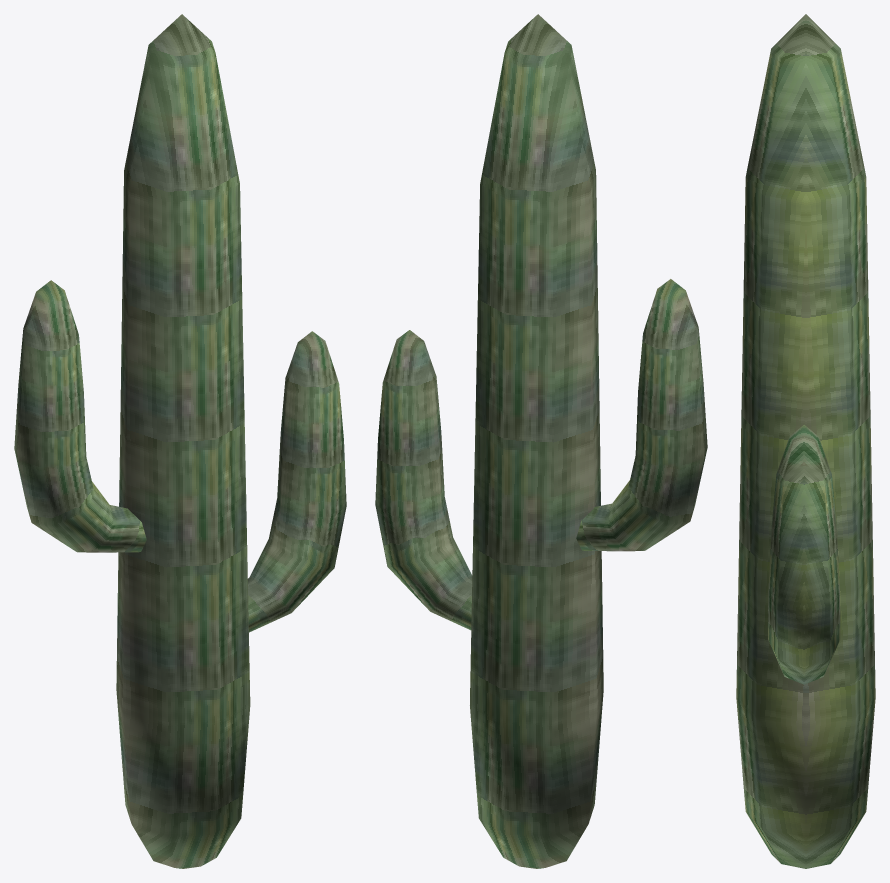
The model's file is cactus.obj.
3 renders of one model, left to right at view 1: azimuth 30°, elevation 25°; view 2: azimuth 150°, elevation 25°; view 3: azimuth 270°, elevation 25°, orthographic.
Visible parts, largest first — view 1: default; view 2: default; view 3: default.
Part boxes in pixels (bbox=[...]): default: bbox=[14, 14, 346, 868]; default: bbox=[375, 14, 707, 868]; default: bbox=[736, 14, 875, 868].
Size of the model in its own units: 30.67 by 77.12 by 11.4.
1 material, 1 textured.
